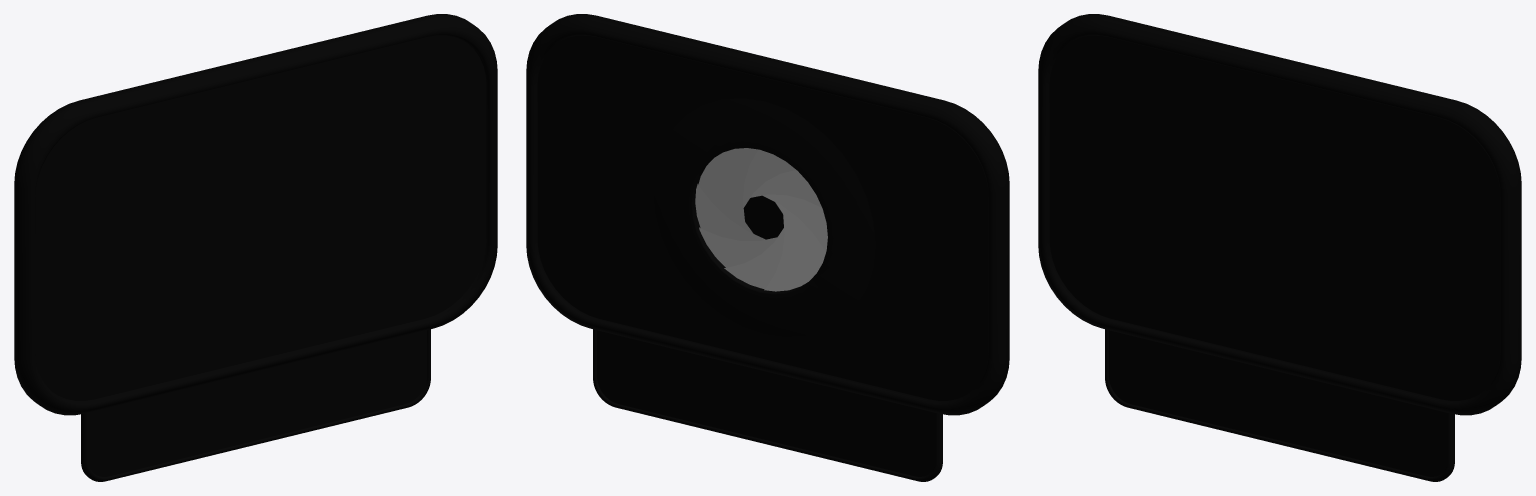
The model's file is BasisCamera.fbx.
The picture shows the model from 3 angles, left to right: view 1: azimuth 30°, elevation 25°; view 2: azimuth 150°, elevation 25°; view 3: azimuth 330°, elevation 25°; orthographic projection.
Parts seen in each view (by area): view 1: Camera; view 2: Camera; view 3: Camera.
Part boxes in pixels (<box>): Camera: <box>14,14,497,481</box>; Camera: <box>526,14,1009,481</box>; Camera: <box>1038,14,1521,481</box>.
Size of the model in its own units: 184 by 141 by 10.41.
Materials: 1 (1 with a texture image).
